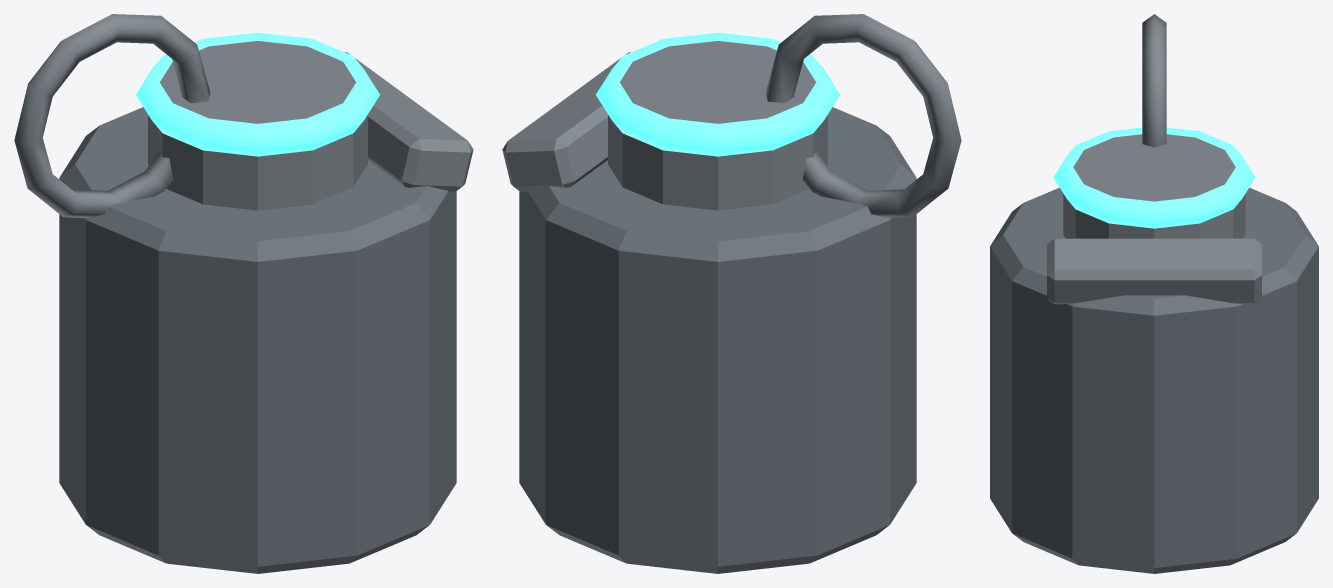
The model's file is PROP_Grenade_WorldTP_v01.glb.
3 renders of one model, left to right at view 1: azimuth 30°, elevation 25°; view 2: azimuth 150°, elevation 25°; view 3: azimuth 270°, elevation 25°, orthographic. The views are drawn at different scales.
Visible parts, largest first — view 1: MESH_Prop, MESH_SafetyRing, MESH_TimerLight; view 2: MESH_Prop, MESH_SafetyRing, MESH_TimerLight; view 3: MESH_Prop, MESH_TimerLight, MESH_SafetyRing.
Boxes of the visible parts, x1,y1,x2,y2 form: MESH_Prop: (59,41,473,573); MESH_SafetyRing: (14,14,210,217); MESH_TimerLight: (136,32,379,156); MESH_Prop: (502,41,916,573); MESH_SafetyRing: (765,14,961,217); MESH_TimerLight: (596,32,839,156); MESH_Prop: (990,134,1318,573); MESH_TimerLight: (1053,127,1255,228); MESH_SafetyRing: (1142,14,1166,147).
Size of the model in its own units: 0.157 by 0.187 by 0.13.
